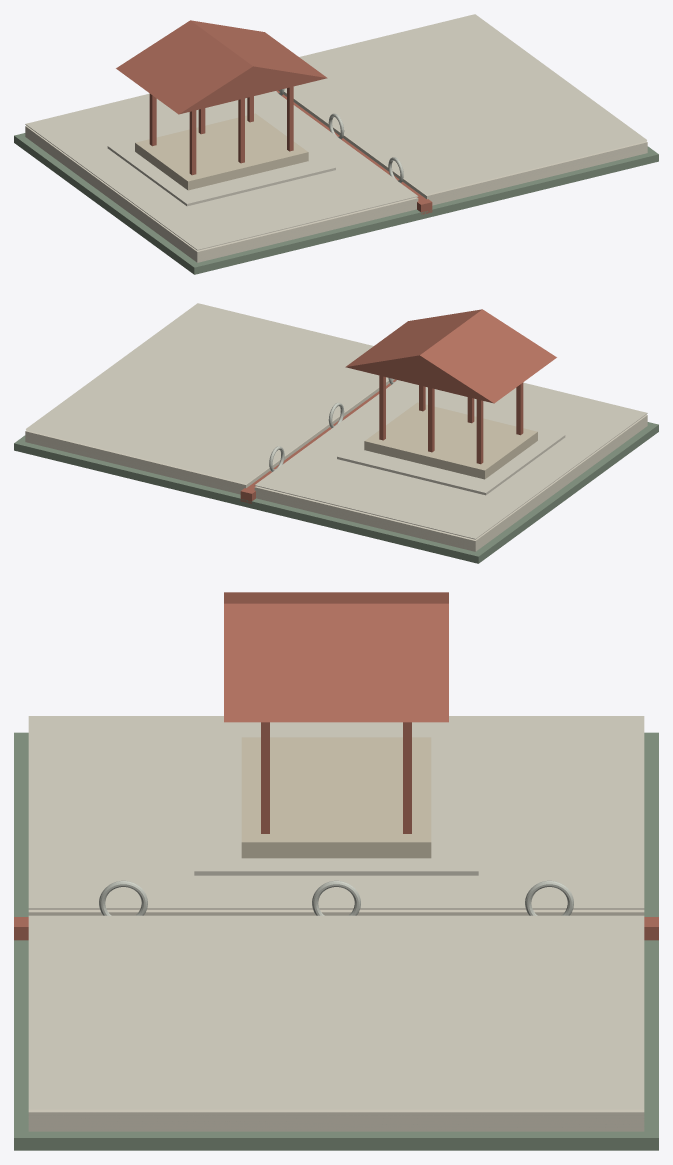
File: Beijing_Heritage_Book.glb
3 views of the same model, one above another, from view 1: azimuth 30°, elevation 25°; view 2: azimuth 150°, elevation 25°; view 3: azimuth 270°, elevation 25° (orthographic). The views are drawn at different scales.
Parts seen in each view (by area): view 1: Spread_04_CurvedLeaf, Left_Reading_Page, Pavilion_Roof, Cloth_Cover, Raised_Platform, Paper_Block_-1, Paper_Plinth, Paper_Block_1, Paper_Column (×4), Red_Spine; view 2: Spread_04_CurvedLeaf, Left_Reading_Page, Pavilion_Roof, Cloth_Cover, Raised_Platform, Paper_Block_-1, Paper_Plinth, Paper_Block_1, Paper_Column (×4), Red_Spine; view 3: Spread_04_CurvedLeaf, Left_Reading_Page, Pavilion_Roof, Cloth_Cover, Raised_Platform, Paper_Plinth, Paper_Block_1, Paper_Block_-1, Paper_Column (×2), Spread_02_CurvedLeaf.
Part boxes in pixels (x1=…): Spread_04_CurvedLeaf: x1=284, y1=14, x2=646, y2=193; Left_Reading_Page: x1=25, y1=91, x2=418, y2=250; Pavilion_Roof: x1=116, y1=20, x2=327, y2=114; Cloth_Cover: x1=14, y1=133, x2=658, y2=274; Raised_Platform: x1=135, y1=113, x2=308, y2=190; Paper_Block_-1: x1=25, y1=125, x2=418, y2=262; Paper_Plinth: x1=107, y1=109, x2=335, y2=206; Paper_Block_1: x1=278, y1=89, x2=647, y2=205; Paper_Column (×4): x1=149, y1=86, x2=293, y2=175; Red_Spine: x1=276, y1=90, x2=432, y2=214; Spread_04_CurvedLeaf: x1=26, y1=303, x2=388, y2=482; Left_Reading_Page: x1=254, y1=380, x2=647, y2=539; Pavilion_Roof: x1=345, y1=309, x2=556, y2=403; Cloth_Cover: x1=14, y1=422, x2=658, y2=563; Raised_Platform: x1=364, y1=402, x2=537, y2=479; Paper_Block_-1: x1=254, y1=414, x2=647, y2=551; Paper_Plinth: x1=337, y1=398, x2=565, y2=495; Paper_Block_1: x1=25, y1=378, x2=394, y2=494; Paper_Column (×4): x1=379, y1=375, x2=523, y2=464; Red_Spine: x1=240, y1=379, x2=396, y2=503; Spread_04_CurvedLeaf: x1=28, y1=915, x2=644, y2=1107; Left_Reading_Page: x1=28, y1=716, x2=644, y2=909; Pavilion_Roof: x1=224, y1=592, x2=448, y2=722; Cloth_Cover: x1=14, y1=732, x2=658, y2=1150; Raised_Platform: x1=241, y1=737, x2=431, y2=858; Paper_Plinth: x1=194, y1=741, x2=478, y2=875; Paper_Block_1: x1=28, y1=1109, x2=644, y2=1131; Paper_Block_-1: x1=28, y1=909, x2=644, y2=915; Paper_Column (×2): x1=261, y1=722, x2=411, y2=833; Spread_02_CurvedLeaf: x1=29, y1=1108, x2=643, y2=1109.
Bounding box in the file's own units: 8.1 × 2.28 × 5.45.
